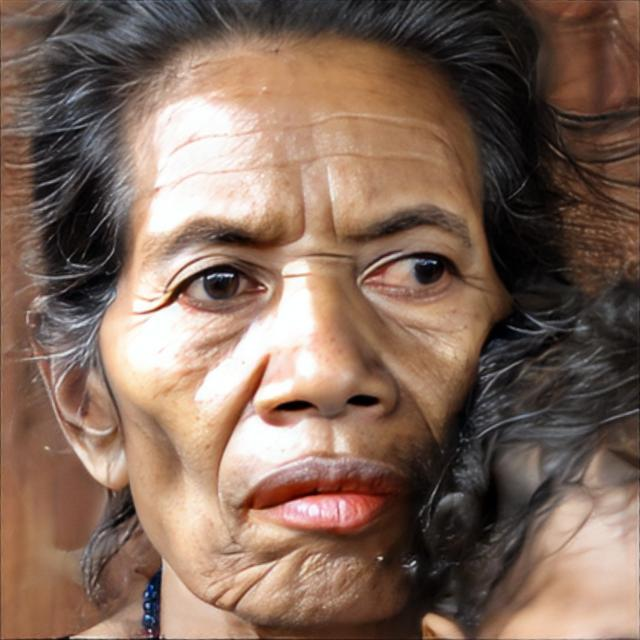anger: (104, 55, 510, 628)
